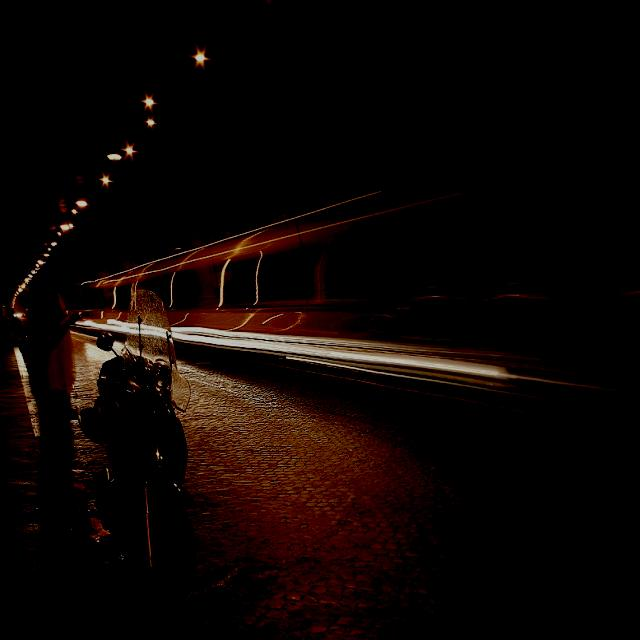Motorbike: (74, 285, 204, 618)
